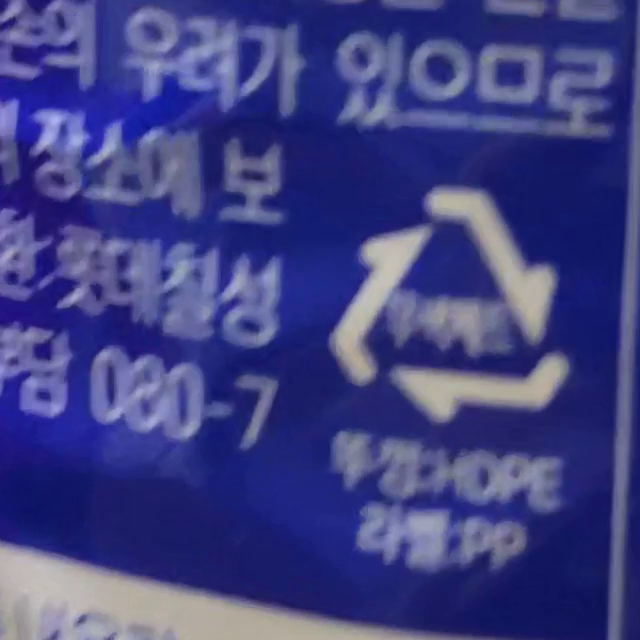ColorlessPet: (328, 188, 567, 423)
